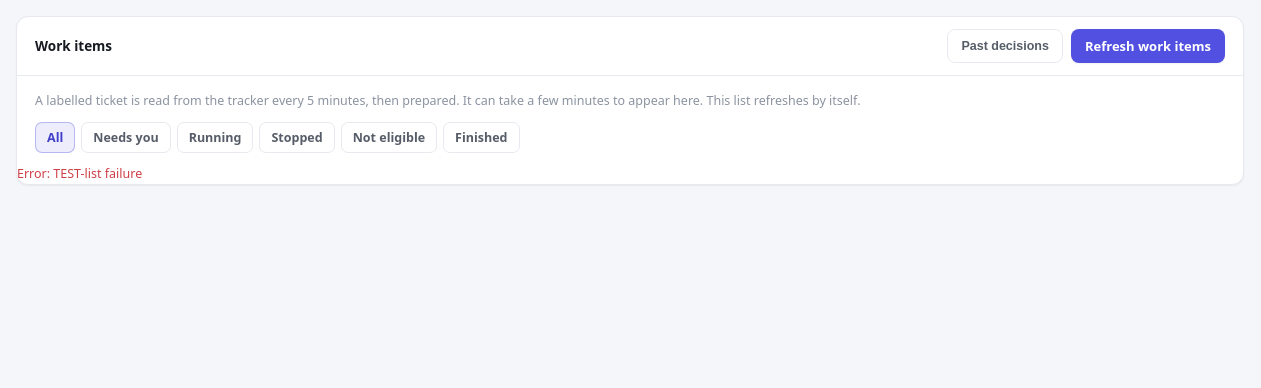
it: shows a list failure and recovers when refreshed
The image size is (1261, 388).
Expected: the message shows "TEST-list failure", [17,165,142,182]
Click the button "Refresh work items".
click(1148, 46)  # box [1071,29,1225,63]
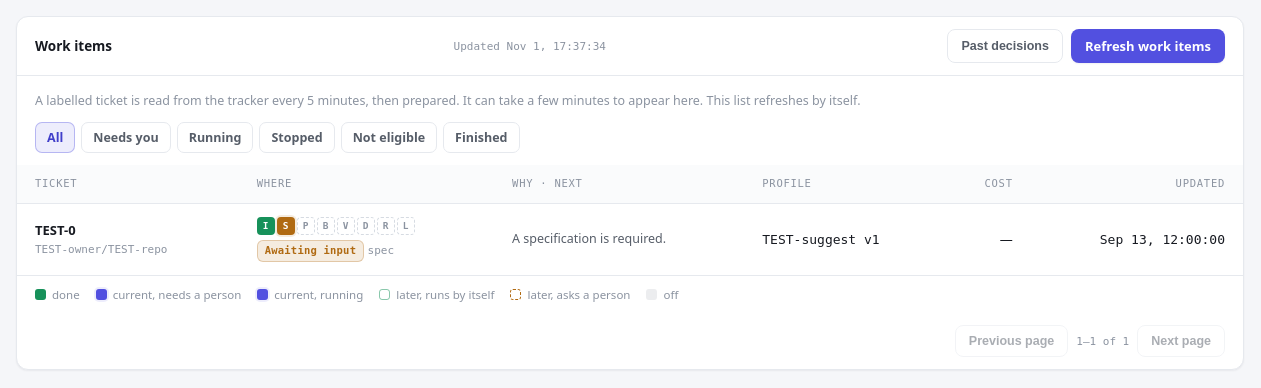
Now the link "TEST-0" is shown, box [35,220,76,238]
Now the message "Error: TEST-list failure" is gone
